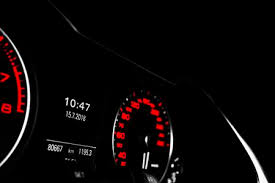Digital_Meter: (45, 135, 100, 159)
